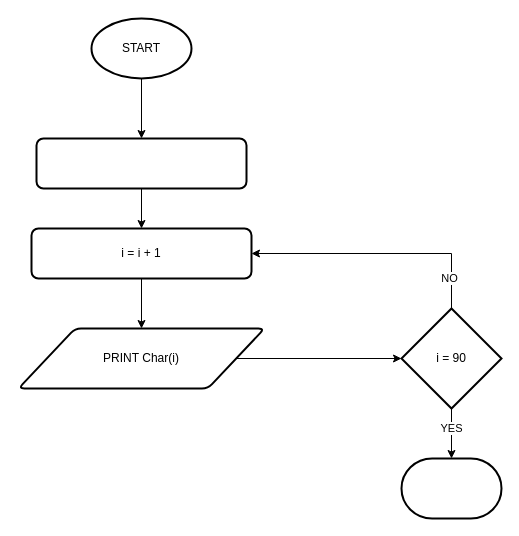
Some shapes in this 519 by 536 pixel diagram are drawn without their labels. The shapes that lost their labels are listed below. From the top down, each one's centre as x and y in pixels, then its label:
At (x=141, y=163): "i = 64".
At (x=451, y=488): "END".
